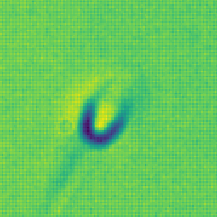normal: (28, 144, 100, 217)
